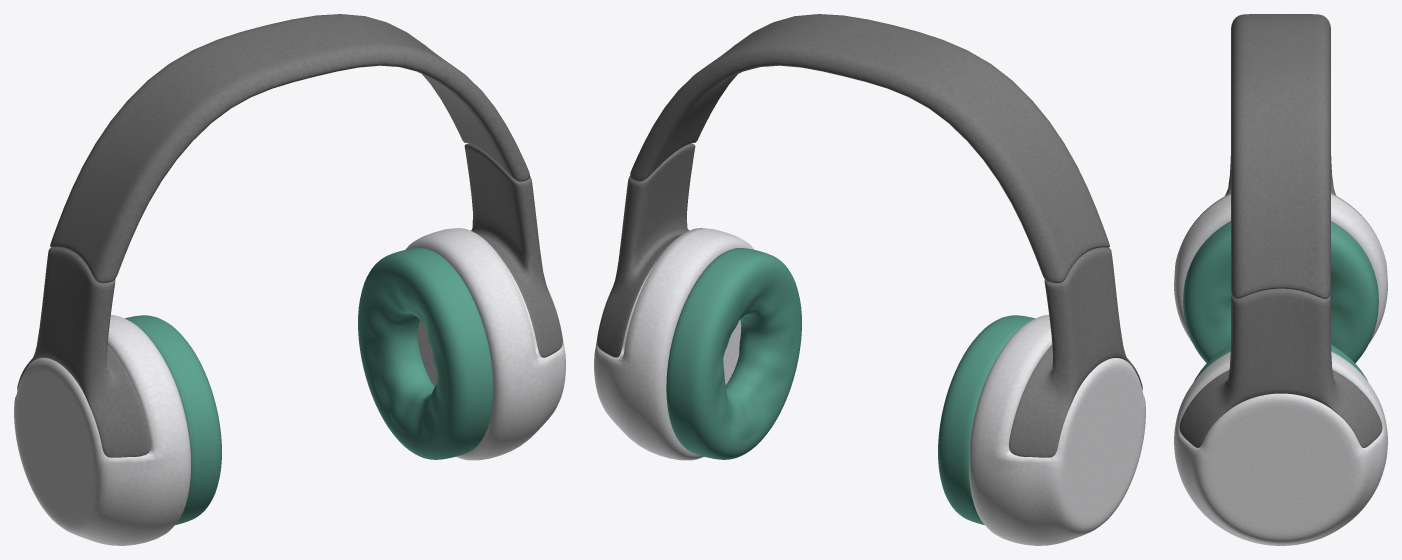
The model's file is headphones.glb.
3 views of the same model, side by side, from view 1: azimuth 30°, elevation 25°; view 2: azimuth 150°, elevation 25°; view 3: azimuth 270°, elevation 25° (orthographic). The views are drawn at different scales.
Visible parts, largest first — view 1: Headphone; view 2: Headphone; view 3: Headphone.
Part boxes in pixels (x1=…): Headphone: x1=14, y1=14, x2=565, y2=545; Headphone: x1=594, y1=14, x2=1145, y2=545; Headphone: x1=1174, y1=14, x2=1387, y2=545.
Bounding box in the file's own units: 0.3057 × 0.2839 × 0.132.
1 material, 1 textured.
